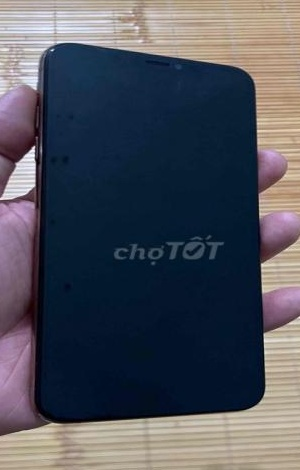scratch: (38, 143, 74, 173), (54, 273, 77, 299), (48, 106, 77, 126), (42, 212, 58, 232)
